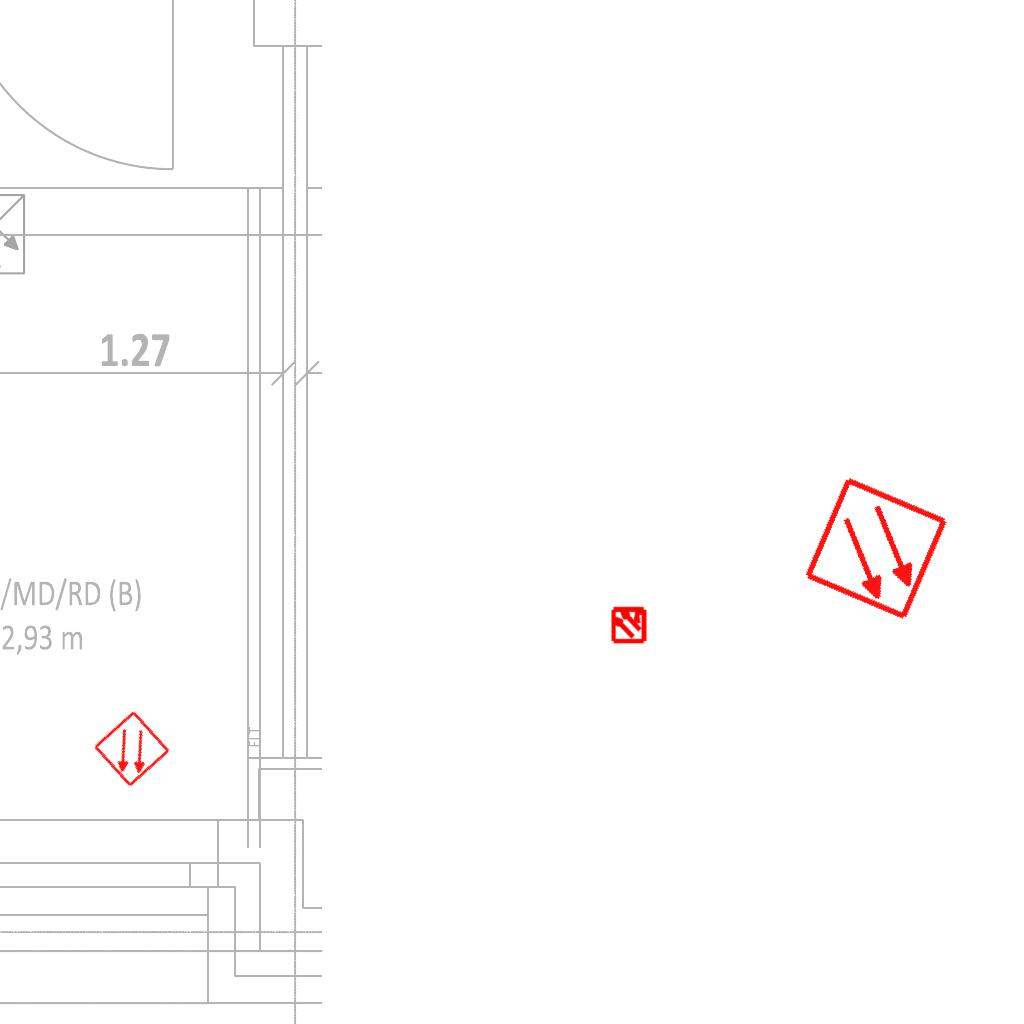OT_Multisensormelder_(Kombination_RMO_WMD): (601, 596, 657, 652)
RMO_Rauchmelder_optischer: (802, 474, 951, 623), (92, 709, 172, 789)
